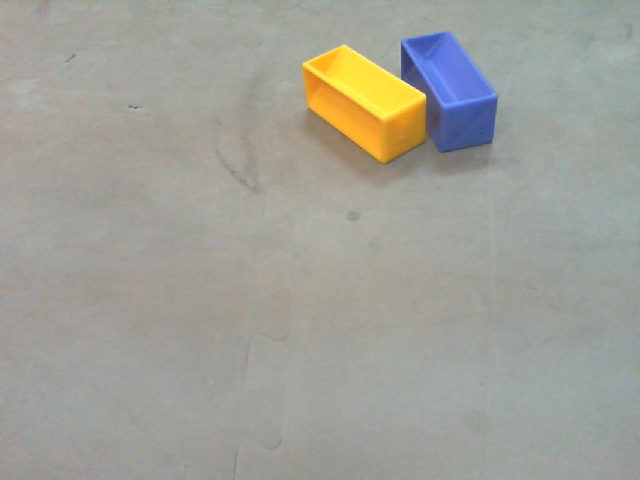BlueSample: (401, 30, 497, 159)
YellowSample: (300, 44, 427, 168)
